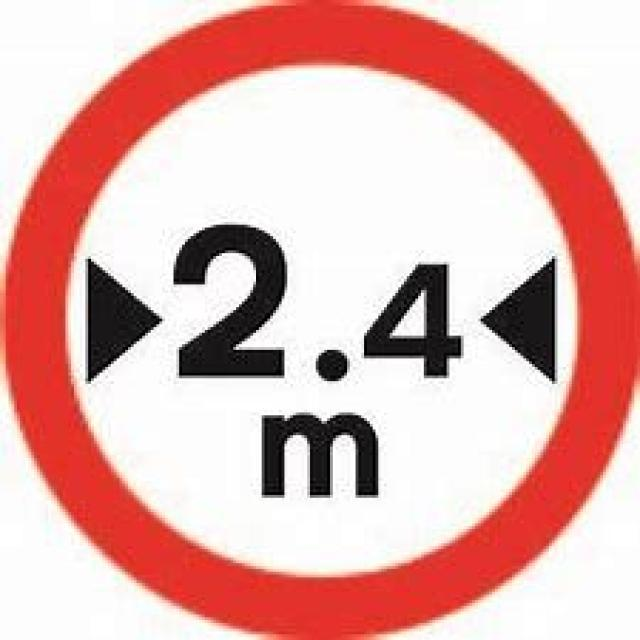width limit: (23, 23, 609, 618)
